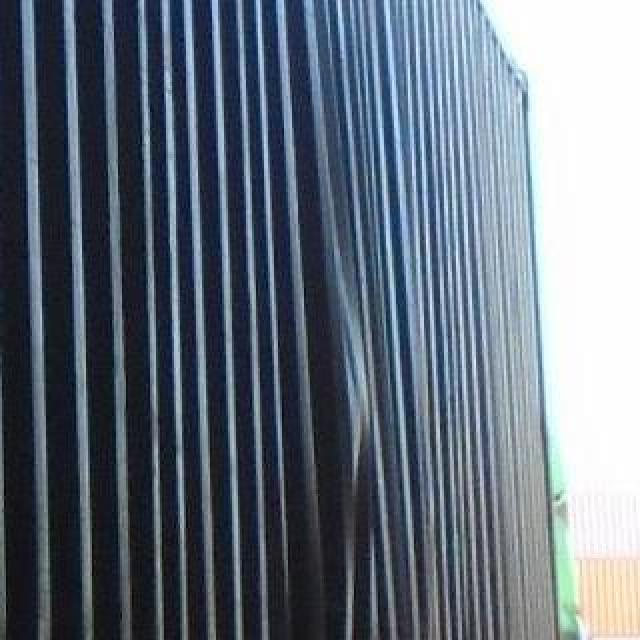dent: (303, 147, 375, 640)
